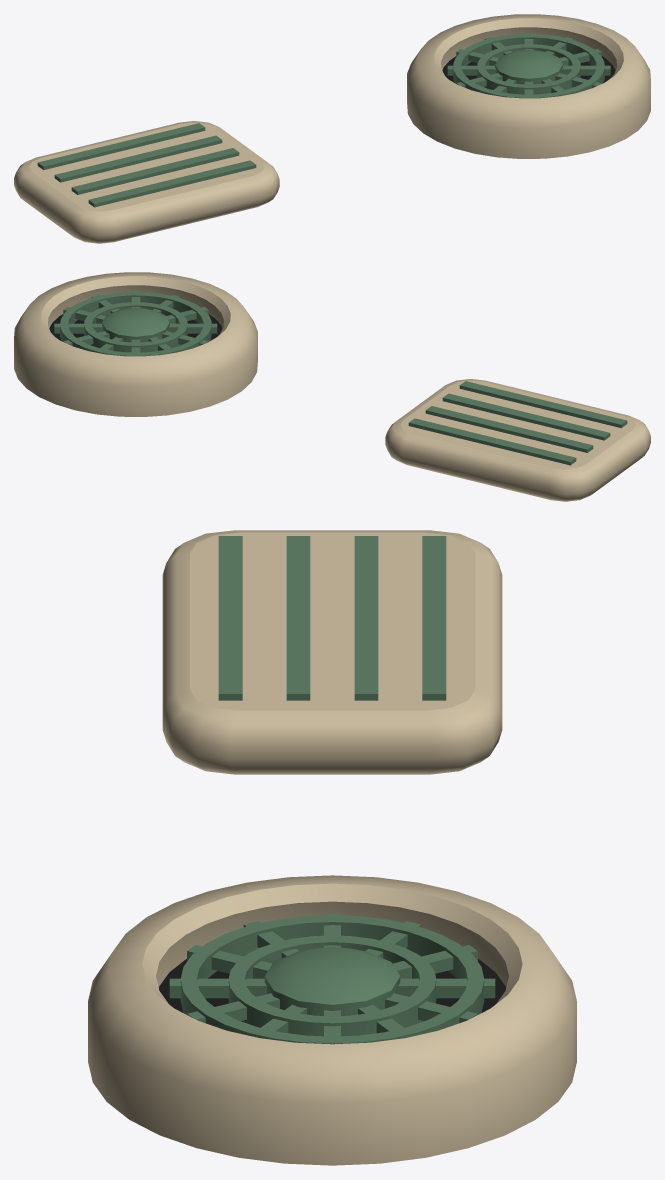
File: t10_fan.obj
3 renders of one model, top to bottom at view 1: azimuth 30°, elevation 25°; view 2: azimuth 150°, elevation 25°; view 3: azimuth 270°, elevation 25°, orthographic. The views are drawn at different scales.
Visible parts, largest first — view 1: t10_fan; view 2: t10_fan; view 3: t10_fan.
Part boxes in pixels (x1,y1,x2,y2): t10_fan: [14, 14, 650, 243]; t10_fan: [14, 272, 650, 501]; t10_fan: [88, 530, 576, 1165].
Bounding box in the file's own units: 2.01 × 0.16 × 0.72.
